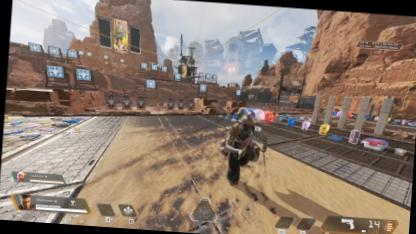Target: (221, 112, 265, 186)
